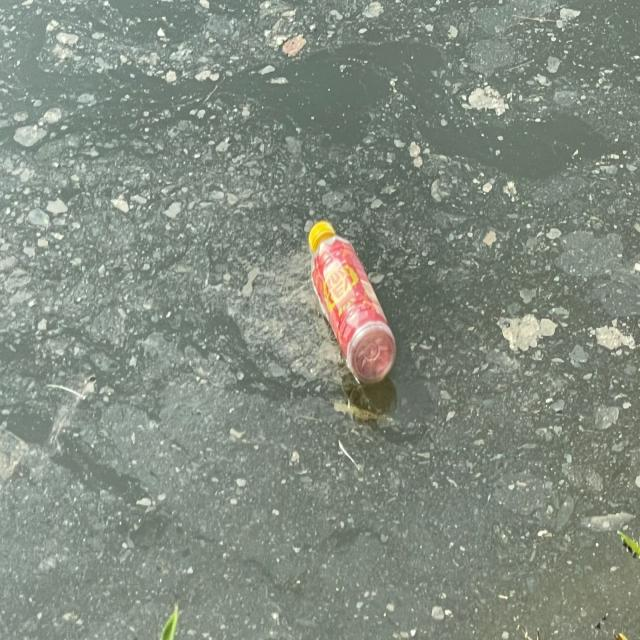Botol Plastik: (302, 215, 401, 394)
